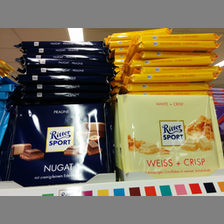chocolate: (113, 94, 220, 178), (11, 101, 114, 185)
